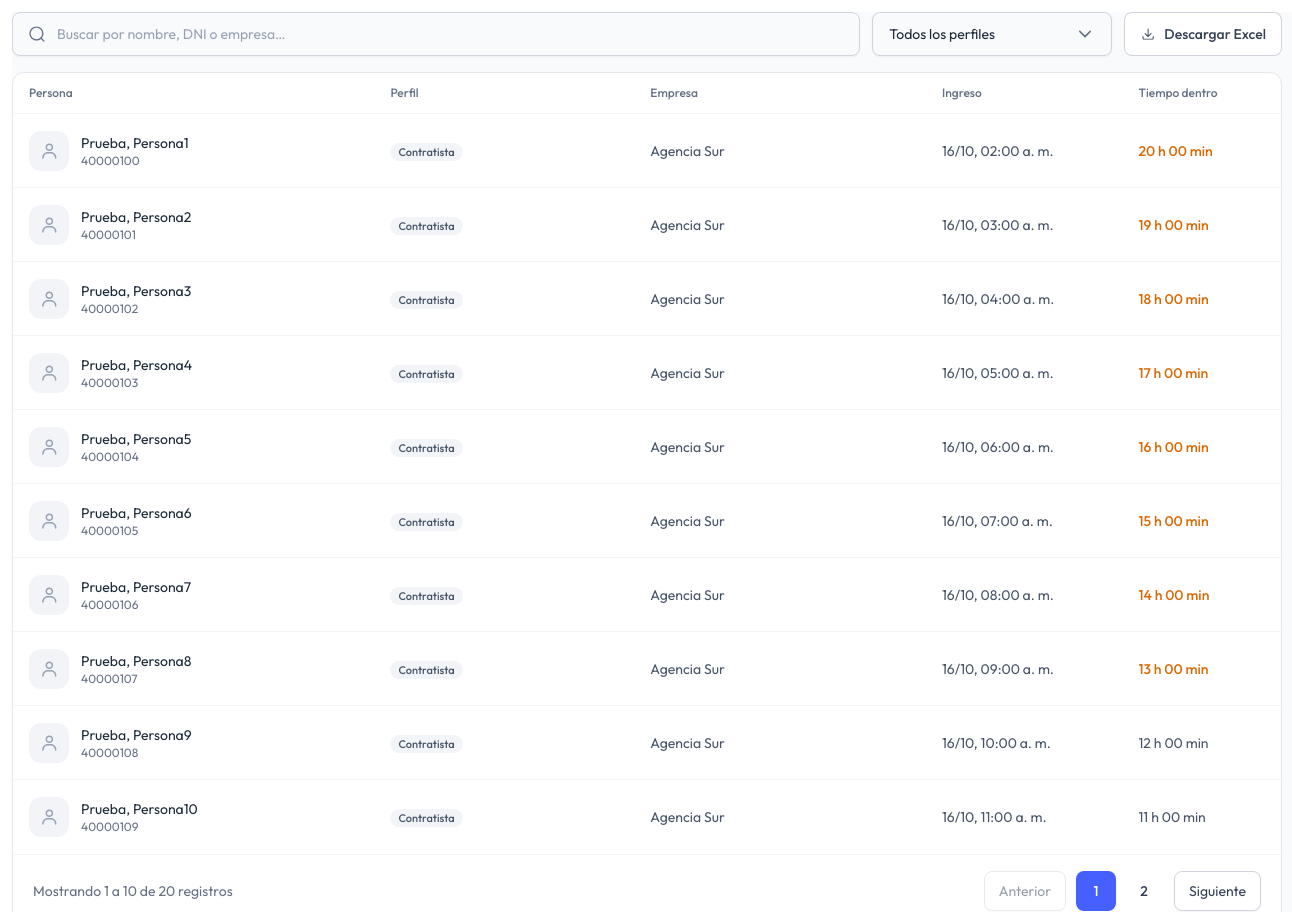
Scenario: lista de presentes › muestra 10 por página y pasa a la siguiente
The image size is (1292, 912).
Expected: the text "Prueba, Persona1" is shown, [81,132,189,152]
Expected: the text "Mostrando 1 a 10 de 20 registros" is shown, [33,881,233,901]
Click the button "2" at (1144, 891), box [1124,871,1164,911]
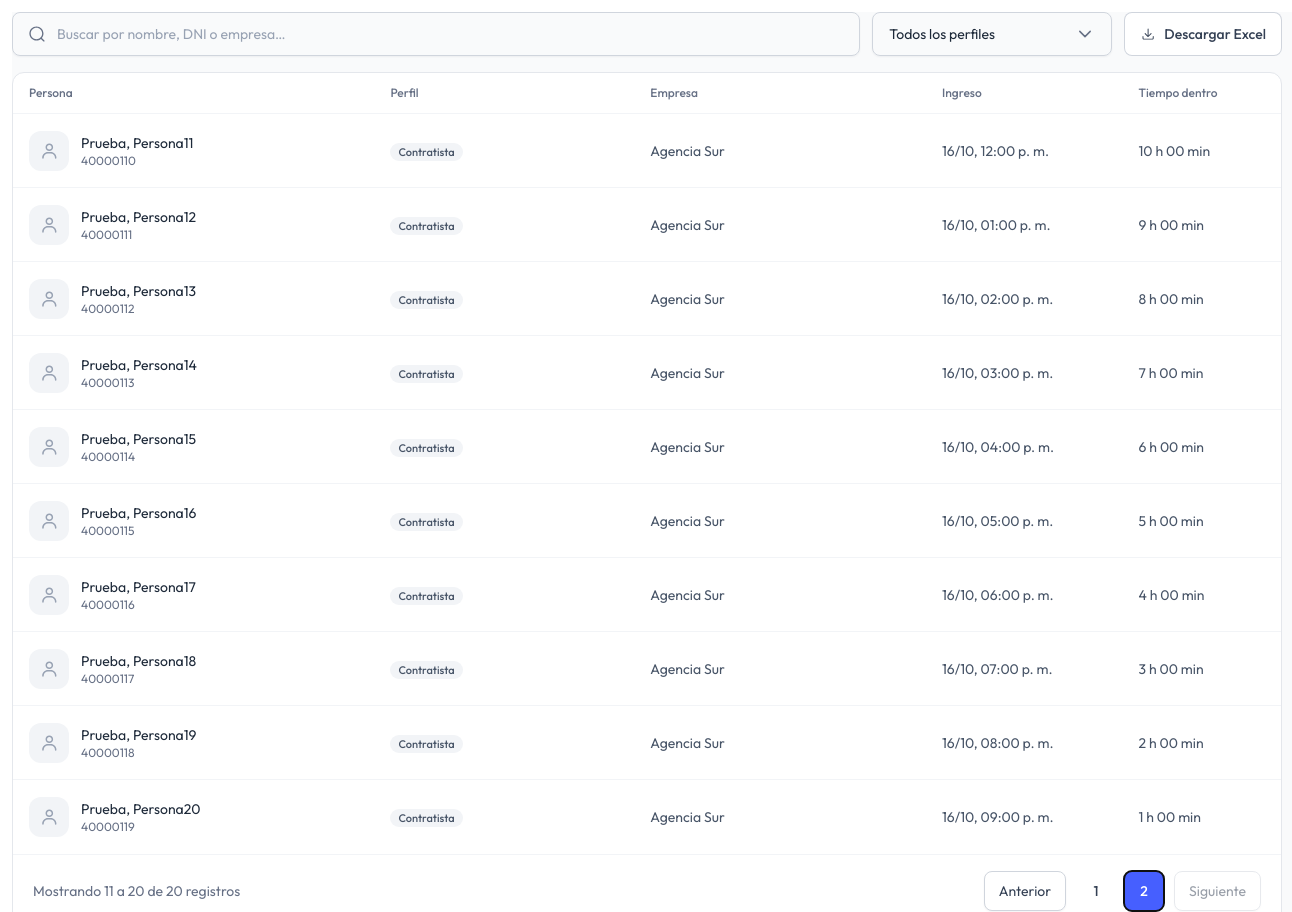
Expected: the text "Prueba, Persona11" is shown, [81,132,193,152]
Expected: the text "Mostrando 11 a 20 de 20 registros" is shown, [33,881,240,901]
